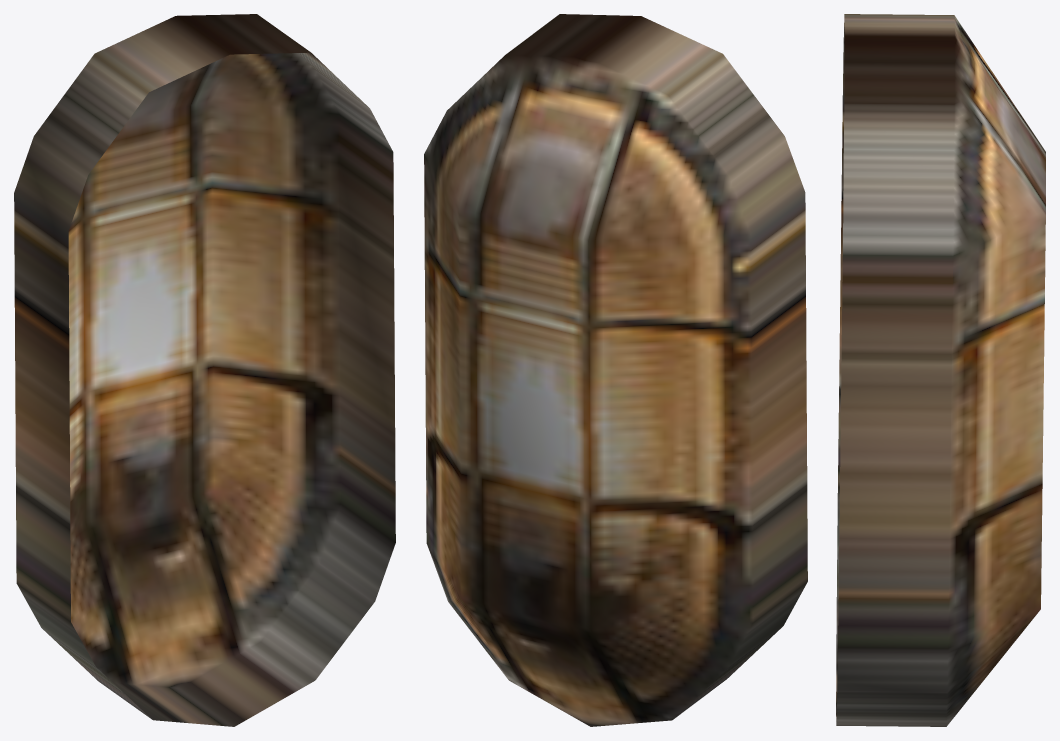
The model's file is light.fbx.
3 renders of one model, left to right at view 1: azimuth 30°, elevation 25°; view 2: azimuth 150°, elevation 25°; view 3: azimuth 270°, elevation 25°, orthographic.
Visible parts, largest first — view 1: light; view 2: light; view 3: light.
Boxes of the visible parts, x1,y1,x2,y2 form: light: (14, 14, 395, 726); light: (424, 14, 807, 726); light: (836, 14, 1045, 726).
Bounding box in the file's own units: 20.48 × 40.39 × 11.34.
1 material, 1 textured.
